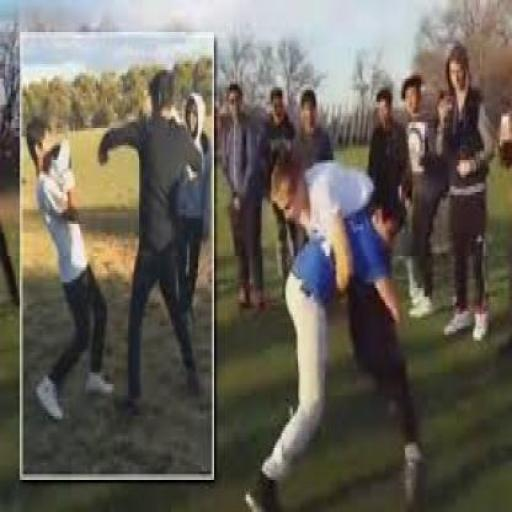Fighting: (24, 65, 214, 431), (247, 143, 428, 512)
